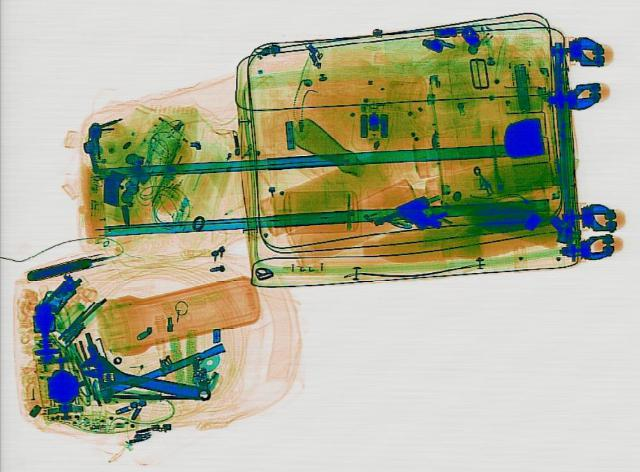Wrench: (70, 352, 216, 411)
